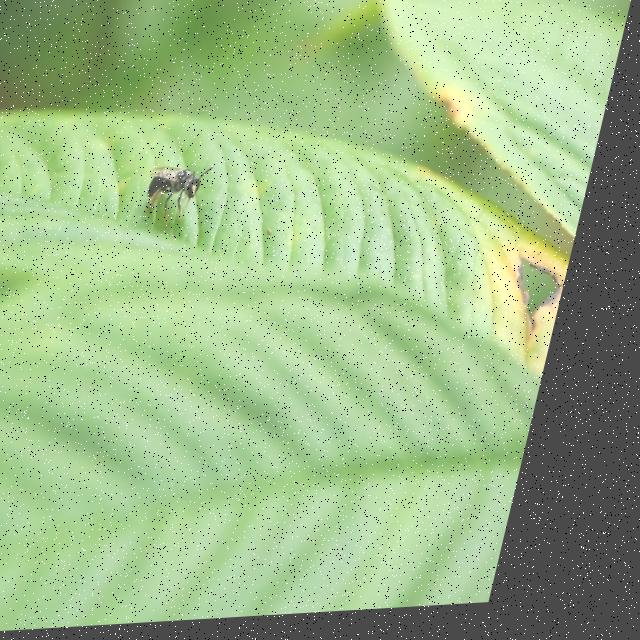Braunsapis: (142, 154, 229, 226)
